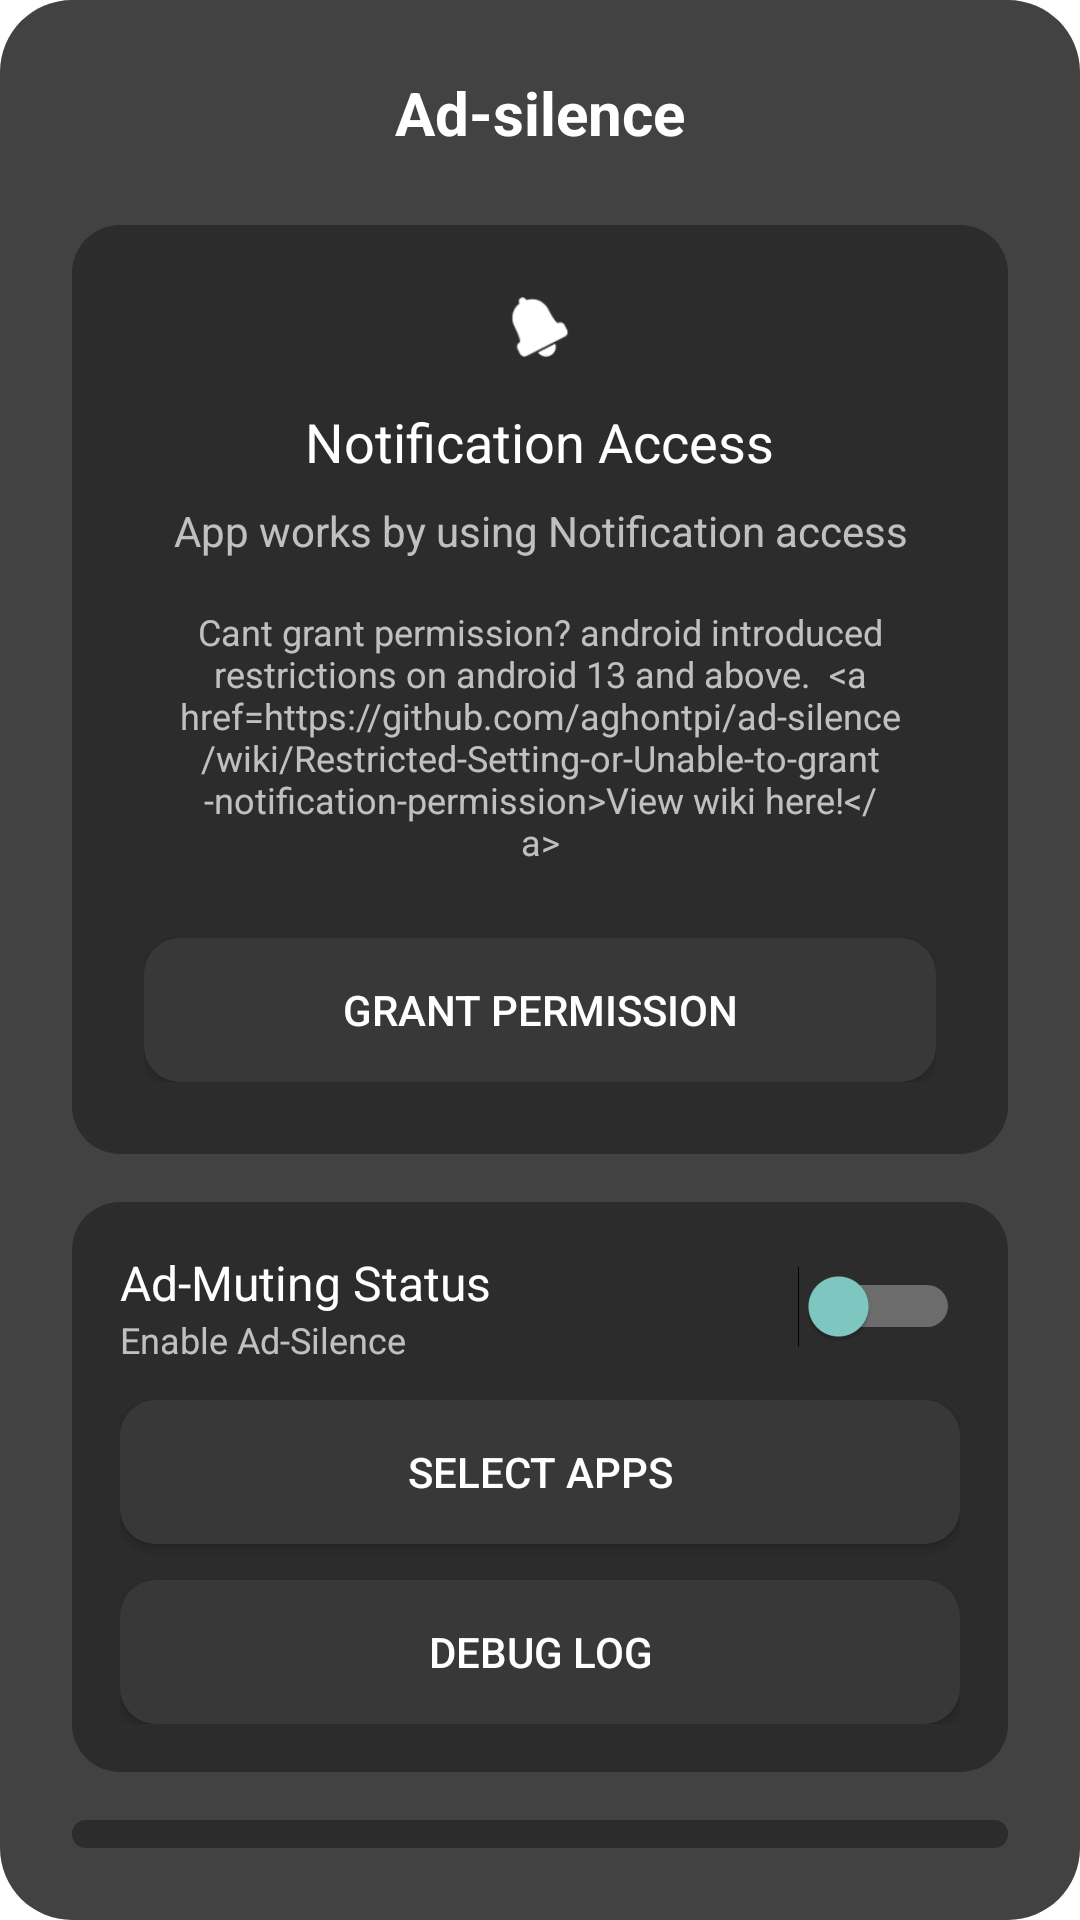

Icons on this 1080 × 1920 Android screen, each with its box as (x1, y1, x2, y2):
popup reminder: (512, 297, 568, 357)
